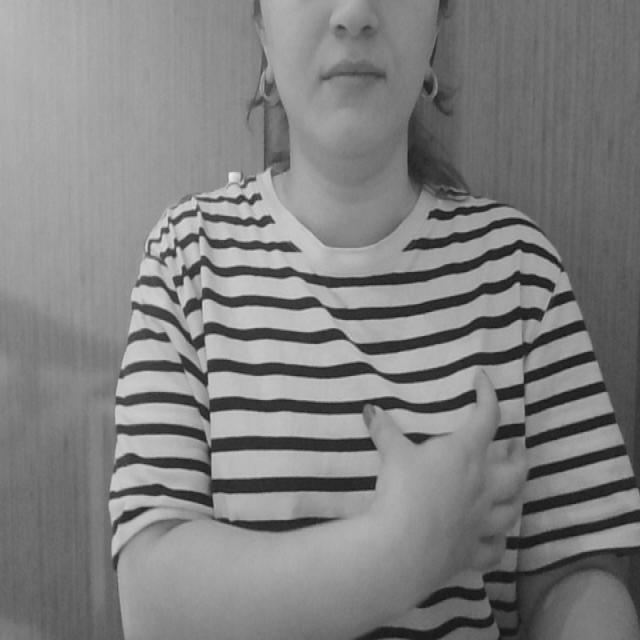Anne: (206, 362, 544, 582)
